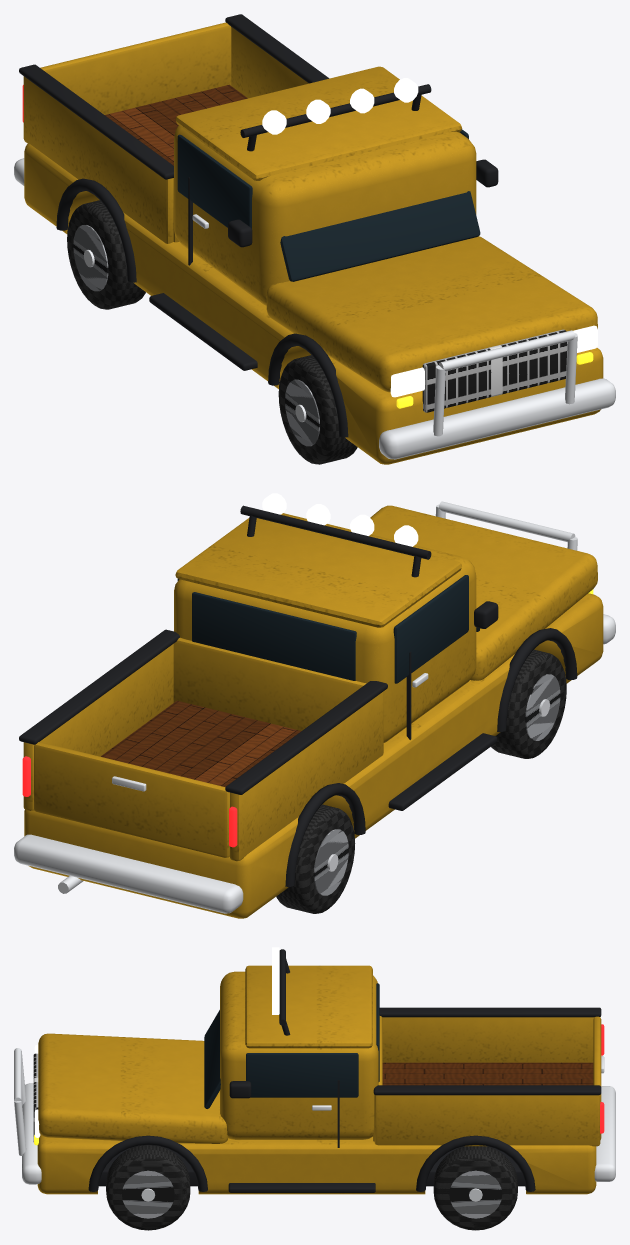
Rendered from pickup-gold.glb.
The picture shows the model from 3 angles, top to bottom: view 1: azimuth 30°, elevation 25°; view 2: azimuth 150°, elevation 25°; view 3: azimuth 270°, elevation 25°; orthographic projection. The views are drawn at different scales.
Parts seen in each view (by area): view 1: pickup-gold; view 2: pickup-gold; view 3: pickup-gold.
Boxes of the visible parts, x1,y1,x2,y2 form: pickup-gold: (14, 14, 615, 464); pickup-gold: (14, 493, 615, 918); pickup-gold: (14, 947, 615, 1230).
Size of the model in its own units: 2.36 by 2.41 by 6.14.
11 materials, 5 textured.
